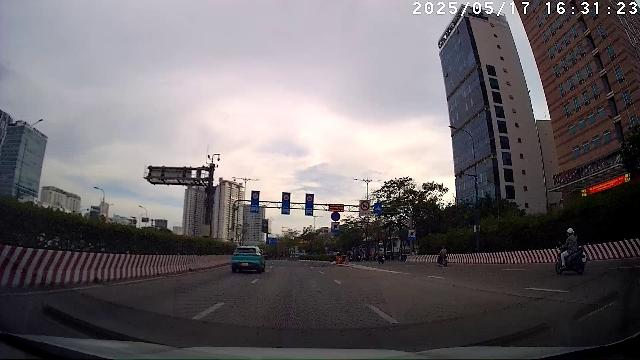103a-cam-oto: (360, 201, 370, 211)
